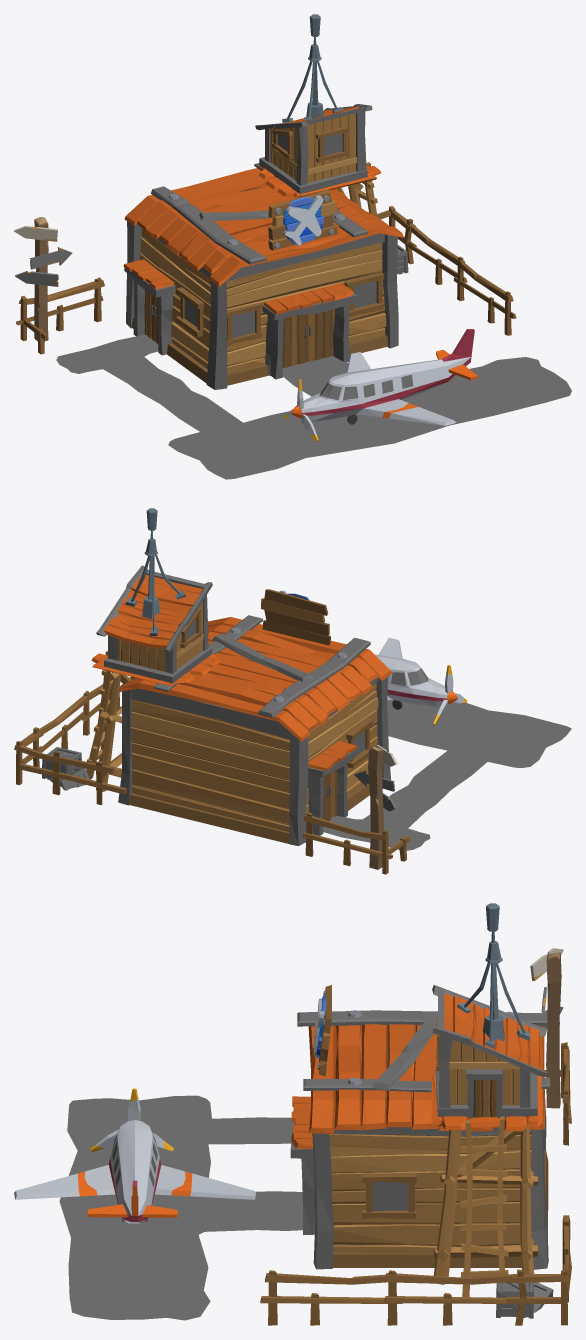
The model's file is Build_Airport01.FBX.
3 views of the same model, one above another, from view 1: azimuth 30°, elevation 25°; view 2: azimuth 150°, elevation 25°; view 3: azimuth 270°, elevation 25° (orthographic). The views are drawn at different scales.
Visible parts, largest first — view 1: Build_Airport01, Airplane01; view 2: Build_Airport01, Airplane01; view 3: Build_Airport01, Airplane01, Airplane01_luoxuanjiang.
Boxes of the visible parts, <box> form: Build_Airport01: <box>14,14,571,479</box>; Airplane01: <box>291,329,478,425</box>; Build_Airport01: <box>14,508,571,874</box>; Airplane01: <box>375,638,457,709</box>; Build_Airport01: <box>59,903,571,1325</box>; Airplane01: <box>14,1120,255,1223</box>; Airplane01_luoxuanjiang: <box>90,1088,173,1152</box>.
Bounding box in the file's own units: 872 × 612 × 870.
